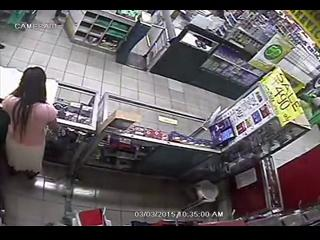Normal: (0, 66, 59, 180)
